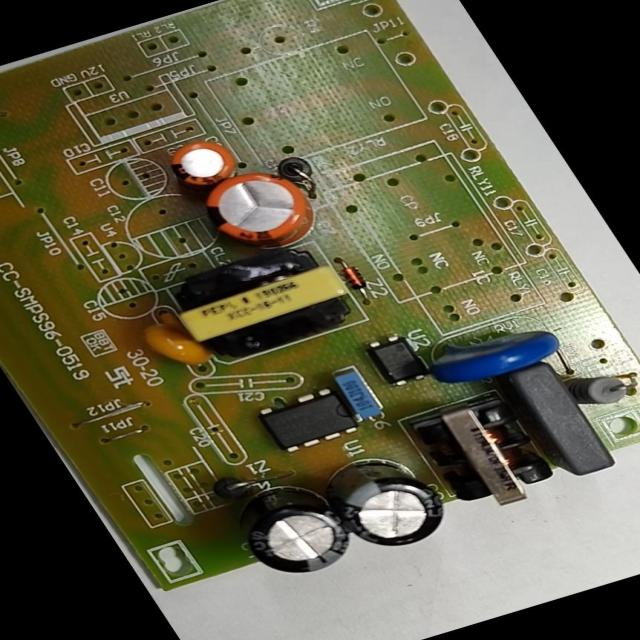Cap1: (172, 156, 337, 265)
Cap2: (144, 124, 255, 200)
Cap3: (304, 439, 478, 566)
Cap4: (205, 462, 379, 590)
MOSFET: (242, 379, 377, 459)
Mov: (407, 302, 579, 399)
Resistor: (546, 355, 640, 418)
Transformer: (142, 231, 378, 372), (394, 386, 572, 524)
